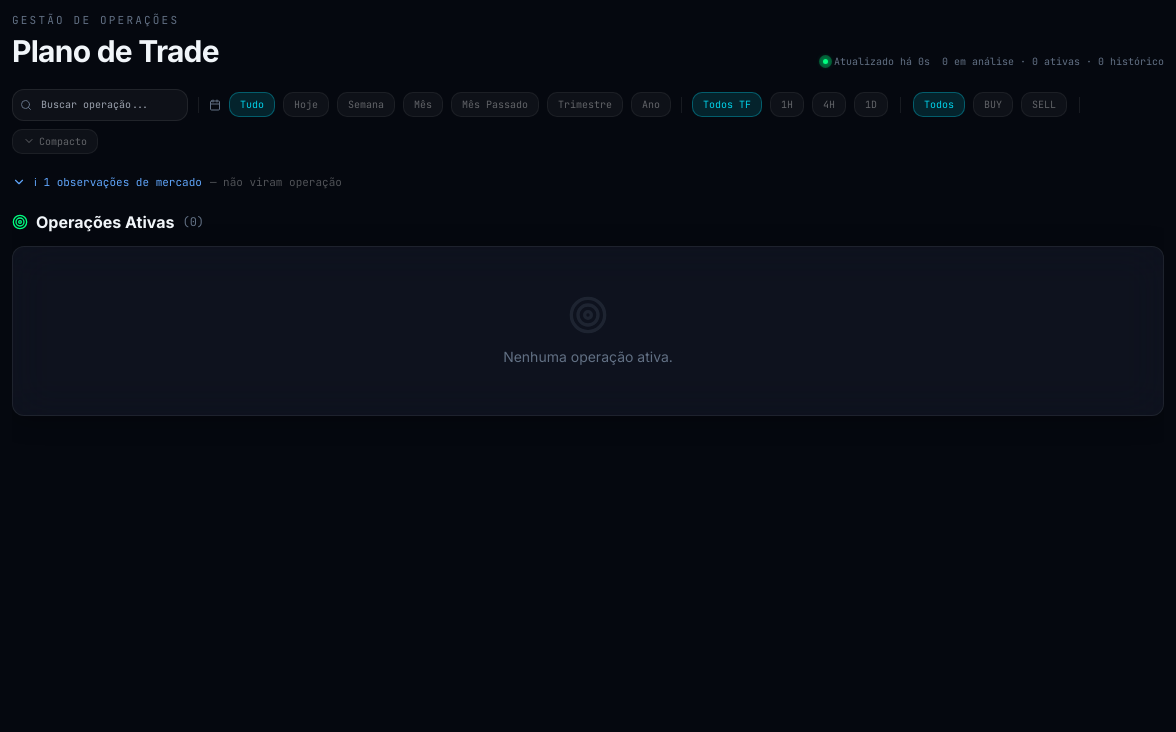
Scenario: Trades — fila de avisos separa as cascatas (item 276) › card de observação sem motivo salvo não diz que o app está checando entrada
Click the button "ℹ 1 observações de mercado — não viram operação" at [177, 182], box [12,174,342,190]
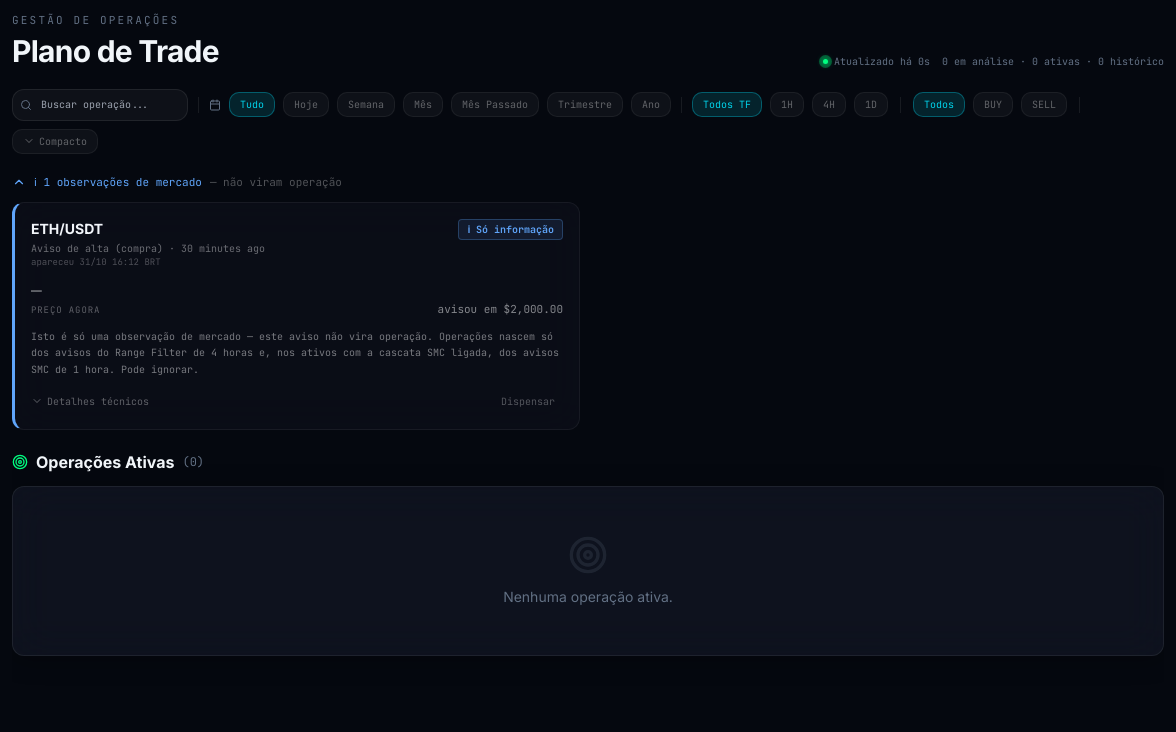
Result: the text "ETH/USDT" is shown at [31,220,103,237]
